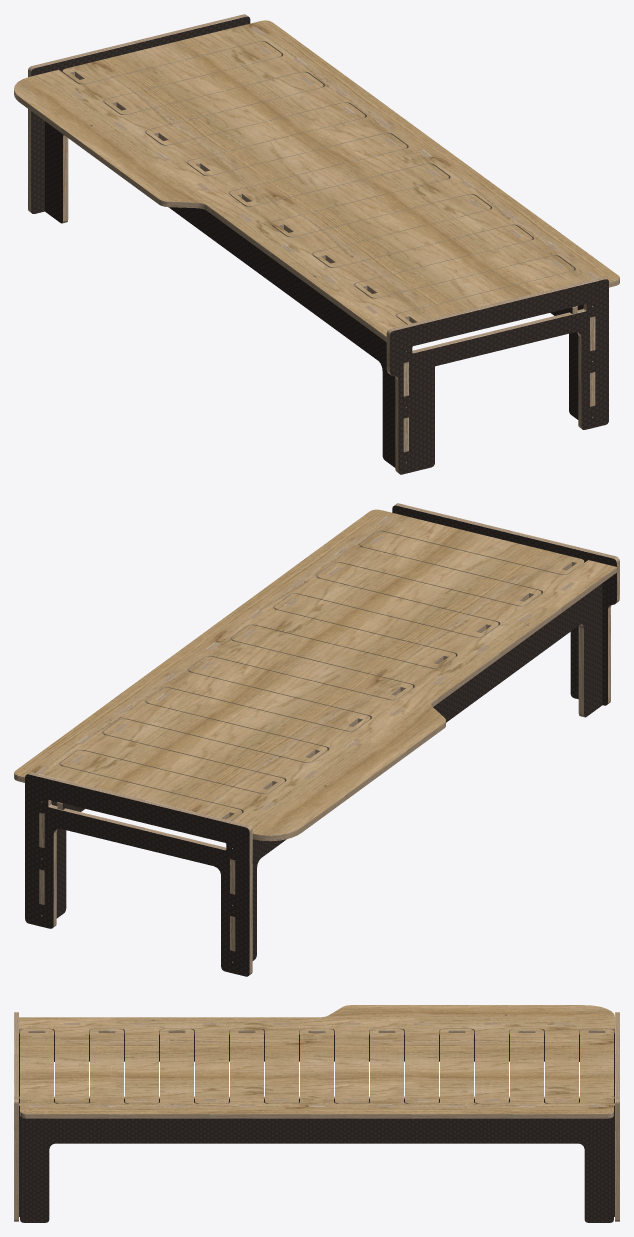
Rendered from slide-bed-hexa.glb.
3 renders of one model, top to bottom at view 1: azimuth 30°, elevation 25°; view 2: azimuth 150°, elevation 25°; view 3: azimuth 270°, elevation 25°, orthographic. The views are drawn at different scales.
Parts seen in each view (by area): view 1: ボディ67_1, ボディ6 (1)_1, ボディ2_1, ボディ60_1, ボディ67_0, ボディ1_1, ボディ6 (1)_0, ボディ2_0, ボディ60_0, ボディ1_0, ボディ54_0, ボディ54_1; view 2: ボディ67_1, ボディ6 (1)_1, ボディ1_1, ボディ60_1, ボディ67_0, ボディ2_1, ボディ6 (1)_0, ボディ1_0, ボディ60_0, ボディ2_0, ボディ54_1, ボディ54_0; view 3: ボディ67_1, ボディ6 (1)_1, ボディ5 (1)_1, ボディ6 (1)_0, ボディ1_0, ボディ2_0, ボディ67_0, ボディ60_1, ボディ5 (1)_0, ボディ54_0.
Boxes of the visible parts, x1,y1,x2,y2 form: ボディ67_1: [14, 41, 574, 336]; ボディ6 (1)_1: [63, 20, 619, 324]; ボディ2_1: [389, 279, 608, 474]; ボディ60_1: [45, 121, 395, 467]; ボディ67_0: [14, 55, 574, 341]; ボディ1_1: [31, 16, 250, 213]; ボディ6 (1)_0: [62, 41, 619, 324]; ボディ2_0: [386, 277, 606, 473]; ボディ60_0: [62, 91, 408, 452]; ボディ1_0: [28, 14, 247, 212]; ボディ54_0: [258, 46, 595, 406]; ボディ54_1: [569, 304, 583, 419]; ボディ67_1: [61, 531, 616, 835]; ボディ6 (1)_1: [14, 509, 583, 820]; ボディ1_1: [25, 774, 249, 976]; ボディ60_1: [252, 583, 602, 960]; ボディ67_0: [60, 545, 616, 841]; ボディ2_1: [392, 505, 616, 705]; ボディ6 (1)_0: [14, 530, 584, 820]; ボディ1_0: [27, 772, 252, 974]; ボディ60_0: [230, 582, 584, 951]; ボディ2_0: [394, 503, 619, 704]; ボディ54_1: [51, 800, 66, 918]; ボディ54_0: [39, 535, 383, 904]; ボディ67_1: [19, 1005, 614, 1103]; ボディ6 (1)_1: [20, 1029, 613, 1113]; ボディ5 (1)_1: [20, 1116, 613, 1222]; ボディ6 (1)_0: [20, 1030, 613, 1118]; ボディ1_0: [615, 1012, 619, 1221]; ボディ2_0: [14, 1012, 18, 1221]; ボディ67_0: [19, 1014, 614, 1103]; ボディ60_1: [19, 1033, 614, 1102]; ボディ5 (1)_0: [28, 1104, 605, 1106]; ボディ54_0: [19, 1099, 614, 1105].
Bounding box in the file's own units: 0.765 × 0.4 × 1.8.
3 materials, 3 textured.
